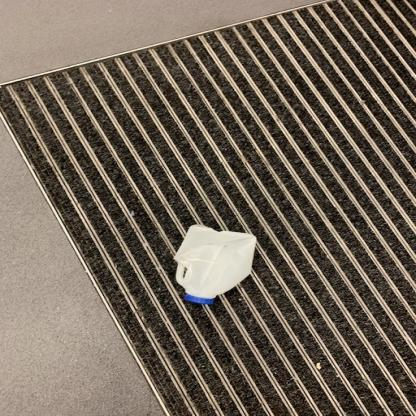trash: (172, 222, 258, 310)
